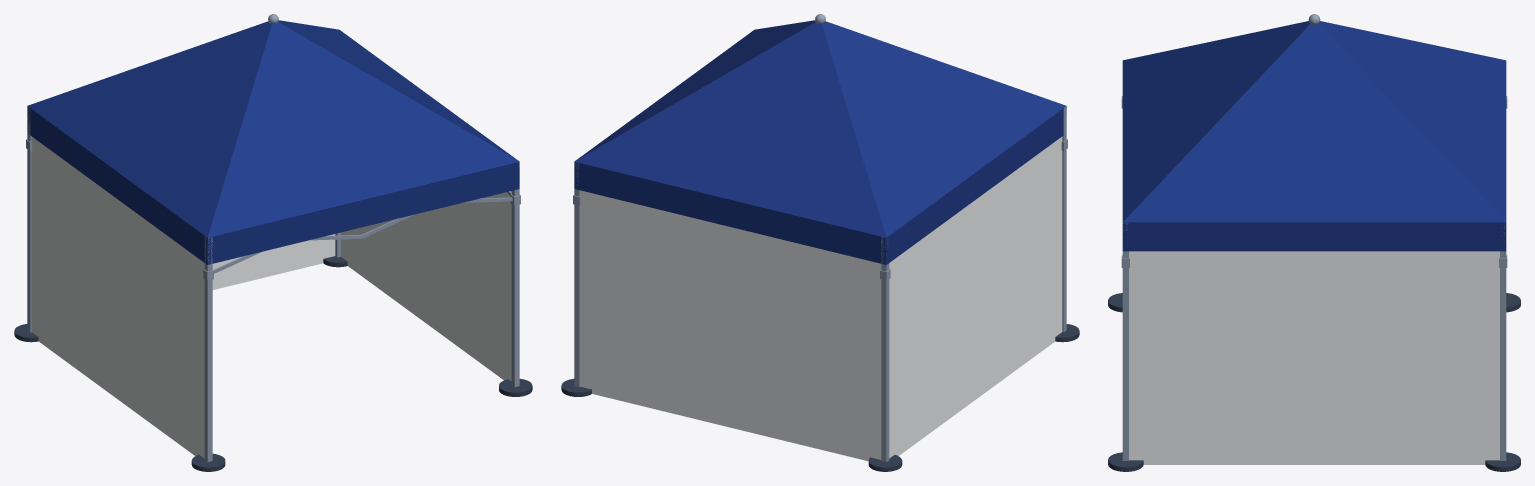
File: tent.glb
3 renders of one model, left to right at view 1: azimuth 30°, elevation 25°; view 2: azimuth 150°, elevation 25°; view 3: azimuth 270°, elevation 25°, orthographic. The views are drawn at different scales.
Visible parts, largest first — view 1: roof, wall_left, wall_right, valance_front, valance_left, wall_back, leg_column_1, leg_column_2, leg_column_4, frame_trusses; view 2: wall_back, roof, wall_left, valance_back, valance_left, leg_column_4, leg_column_3, leg_column_1; view 3: wall_right, roof, valance_right, leg_column_2, leg_column_3, weight_plate_2, weight_plate_3.
Part boxes in pixels (bbox=[...]): roof: bbox=[27, 20, 519, 237]; wall_left: bbox=[31, 137, 204, 458]; wall_right: bbox=[341, 191, 511, 381]; valance_front: bbox=[207, 161, 519, 264]; valance_left: bbox=[27, 106, 207, 264]; wall_back: bbox=[212, 234, 335, 289]; leg_column_1: bbox=[204, 236, 212, 462]; leg_column_2: bbox=[511, 162, 519, 387]; leg_column_4: bbox=[27, 106, 31, 332]; frame_trusses: bbox=[213, 14, 512, 273]; wall_back: bbox=[580, 190, 881, 461]; roof: bbox=[574, 20, 1066, 237]; wall_left: bbox=[889, 137, 1062, 458]; valance_back: bbox=[574, 161, 886, 264]; valance_left: bbox=[886, 106, 1066, 264]; leg_column_4: bbox=[881, 237, 889, 462]; leg_column_3: bbox=[574, 162, 580, 387]; leg_column_1: bbox=[1062, 106, 1066, 332]; wall_right: bbox=[1129, 251, 1499, 464]; roof: bbox=[1122, 21, 1506, 222]; valance_right: bbox=[1122, 222, 1506, 251]; leg_column_2: bbox=[1122, 223, 1128, 460]; leg_column_3: bbox=[1500, 223, 1506, 460]; weight_plate_2: bbox=[1108, 452, 1143, 471]; weight_plate_3: bbox=[1485, 452, 1520, 471].
Bounding box in the file's own units: 3.23 × 3.2 × 3.23.
